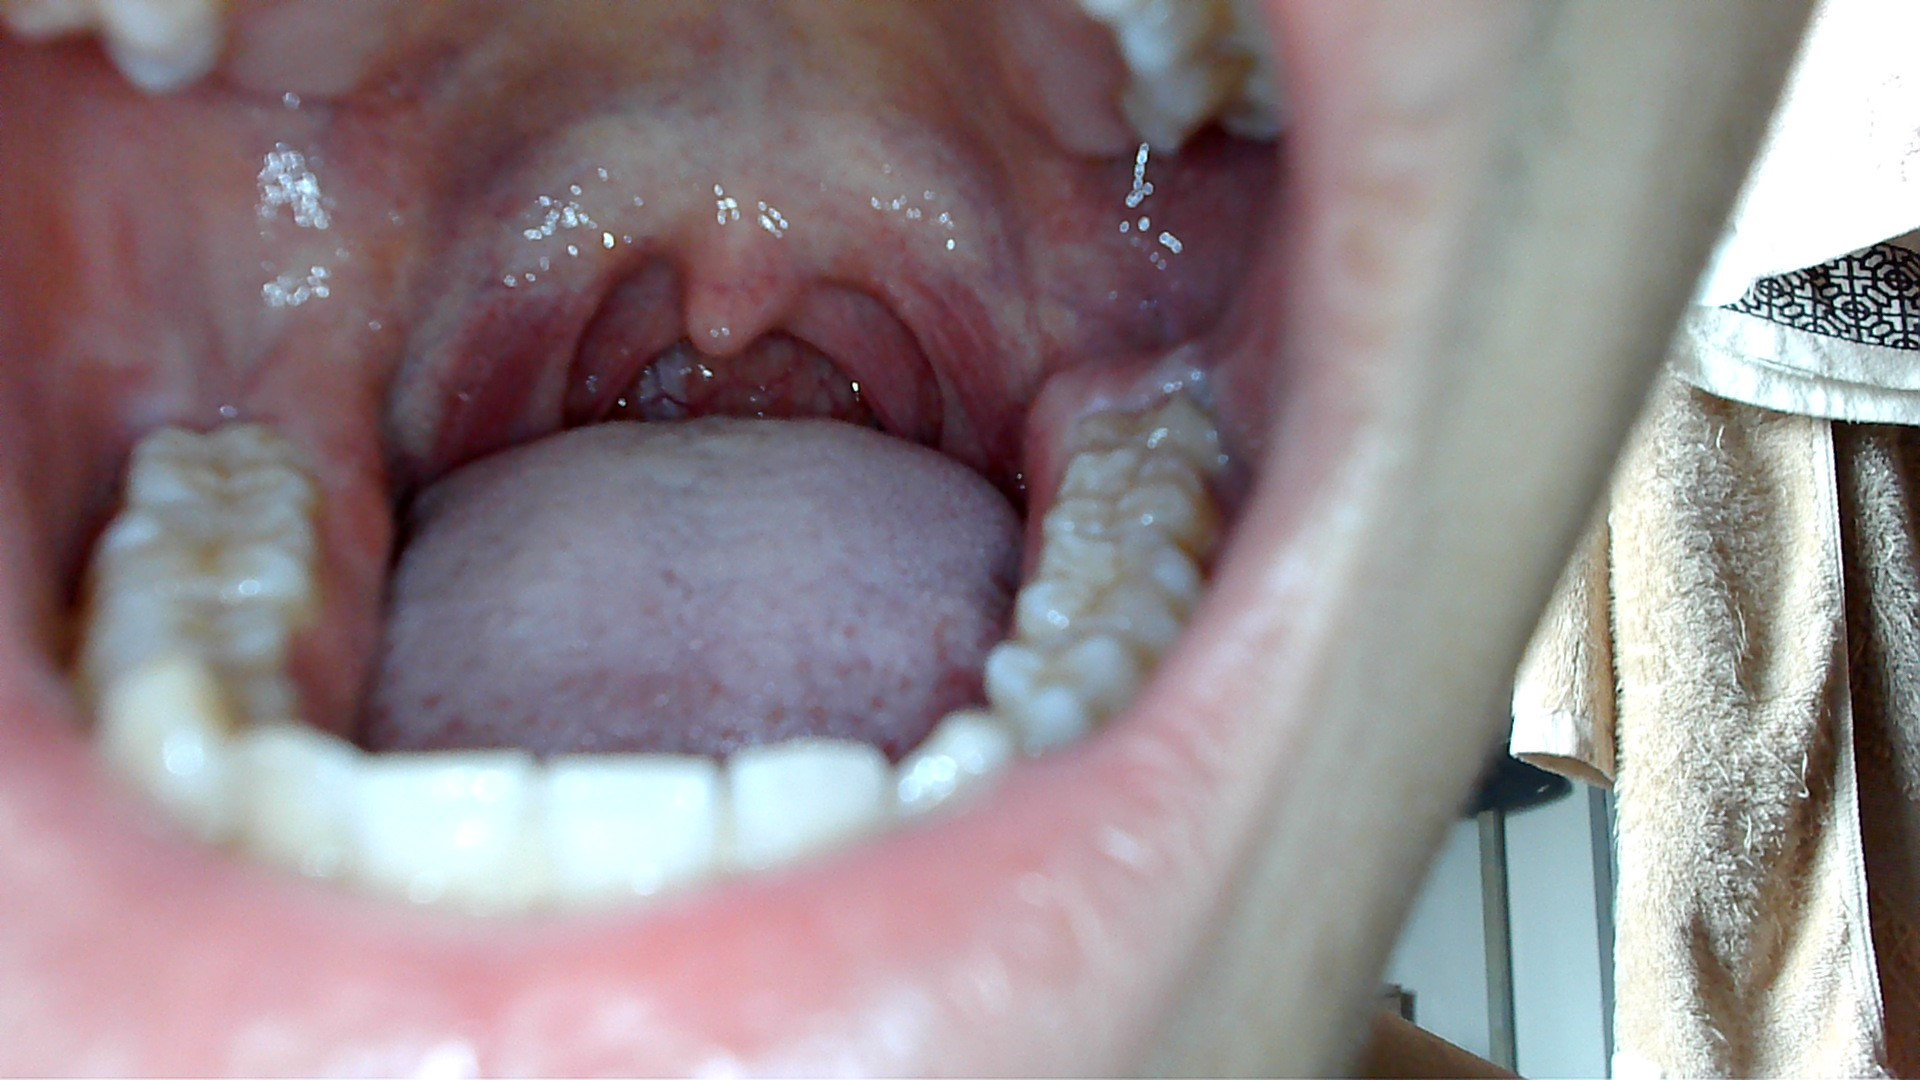throat: (894, 248, 998, 444), (518, 224, 615, 419)
